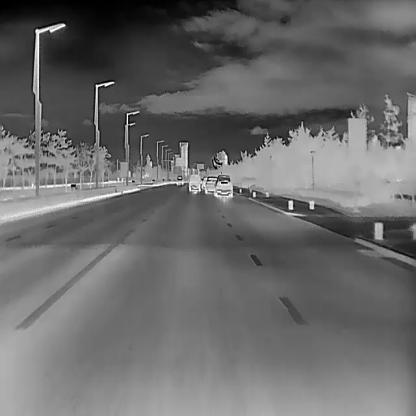car: (215, 174, 233, 197), (204, 176, 218, 194), (188, 174, 200, 193), (201, 177, 212, 189), (175, 175, 184, 186)
